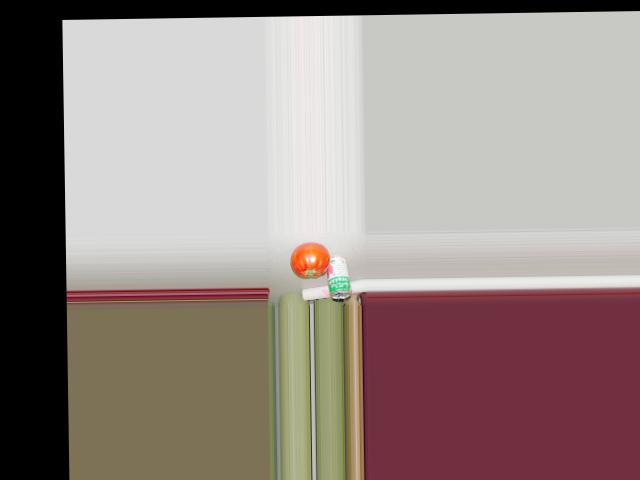tomato: (290, 242, 329, 276)
